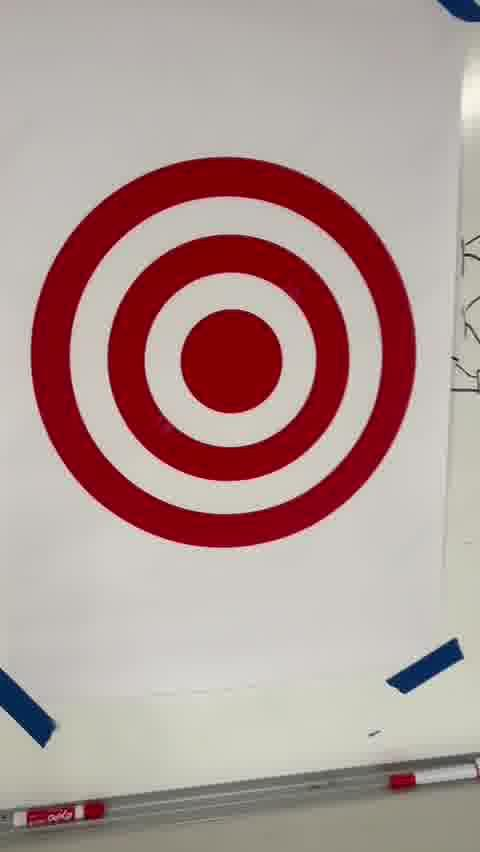target_red: (33, 155, 416, 550)
